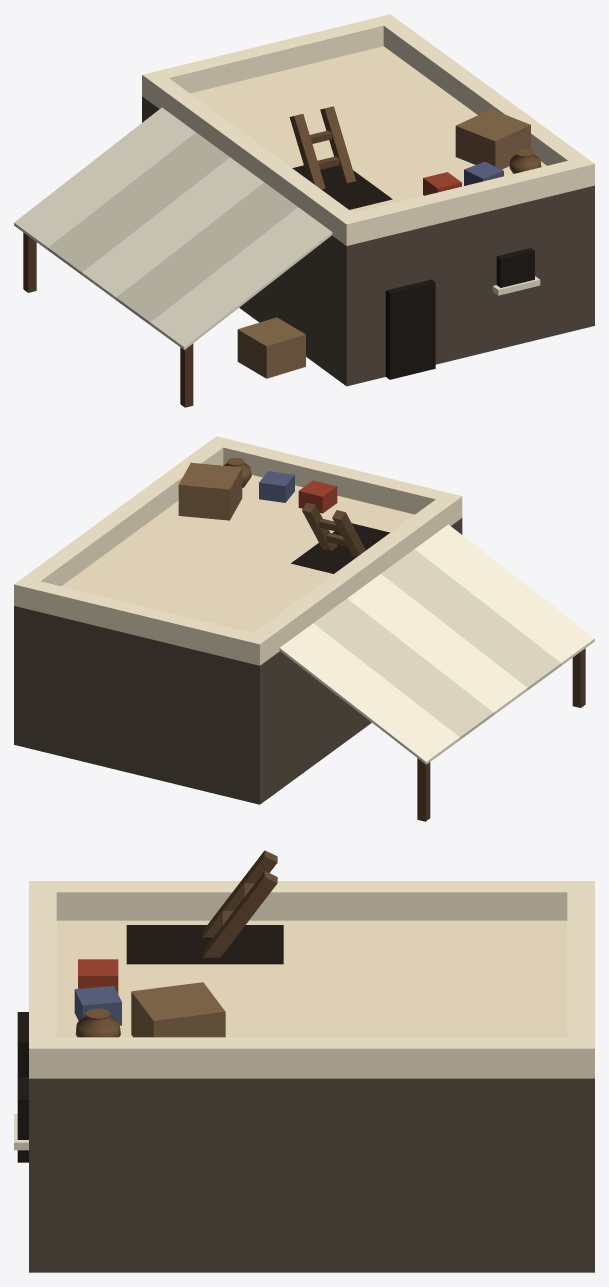
The model's file is VerHut01.glb.
The picture shows the model from 3 angles, top to bottom: view 1: azimuth 30°, elevation 25°; view 2: azimuth 150°, elevation 25°; view 3: azimuth 270°, elevation 25°; orthographic projection. The views are drawn at different scales.
Visible parts, largest first — view 1: VerHut01_adobe; view 2: VerHut01_adobe; view 3: VerHut01_adobe.
Part boxes in pixels (x1,y1,x2,y2): VerHut01_adobe: [14, 14, 594, 407]; VerHut01_adobe: [14, 436, 594, 821]; VerHut01_adobe: [14, 850, 594, 1272].
Size of the model in its own units: 5.19 by 2.5 by 4.76.
